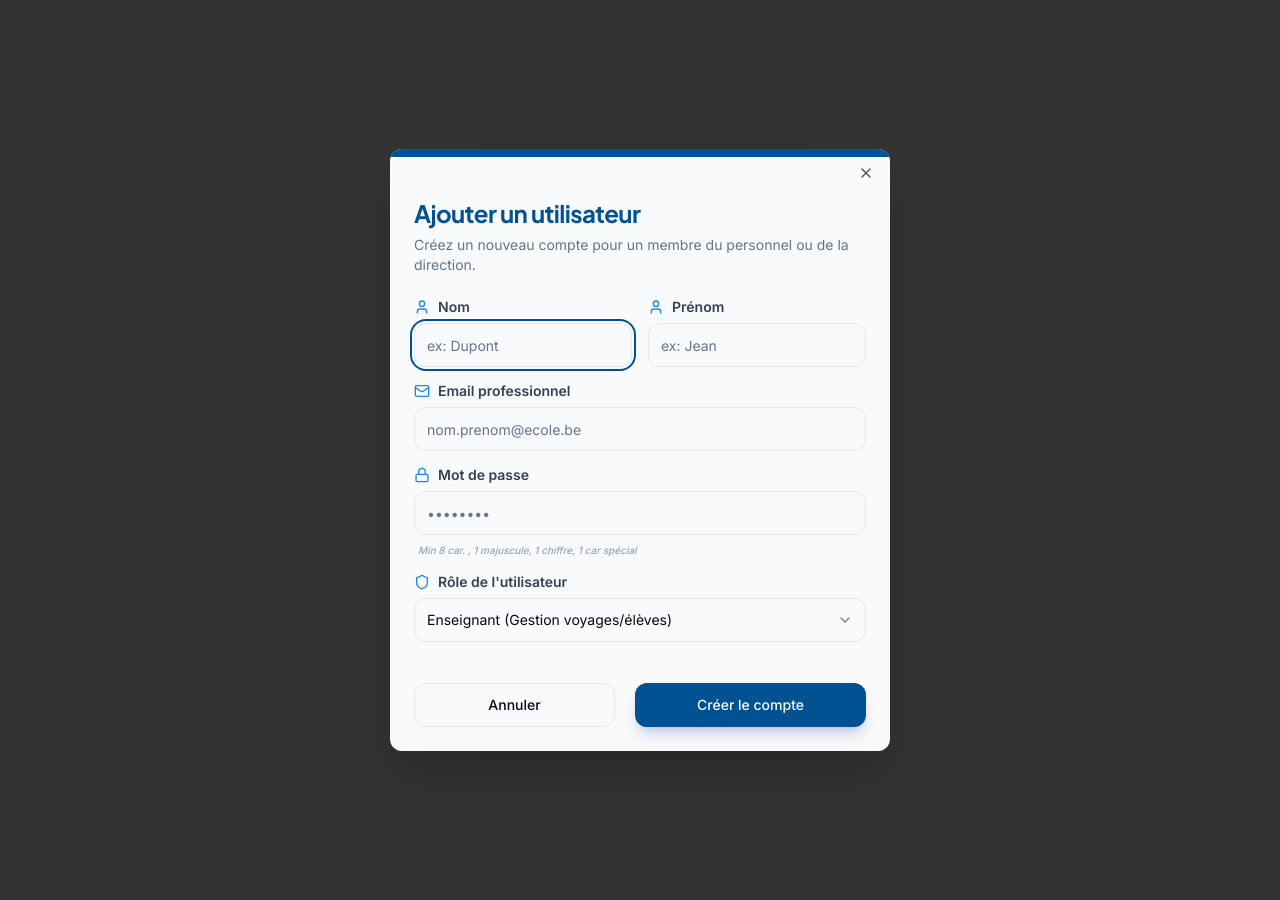
Test case: CreateUserDialog › shows server error on API failure
The image size is (1280, 900).
In the field with placeholder "ex: Dupont": (523,345) [414, 323, 632, 367], type "Dupont"
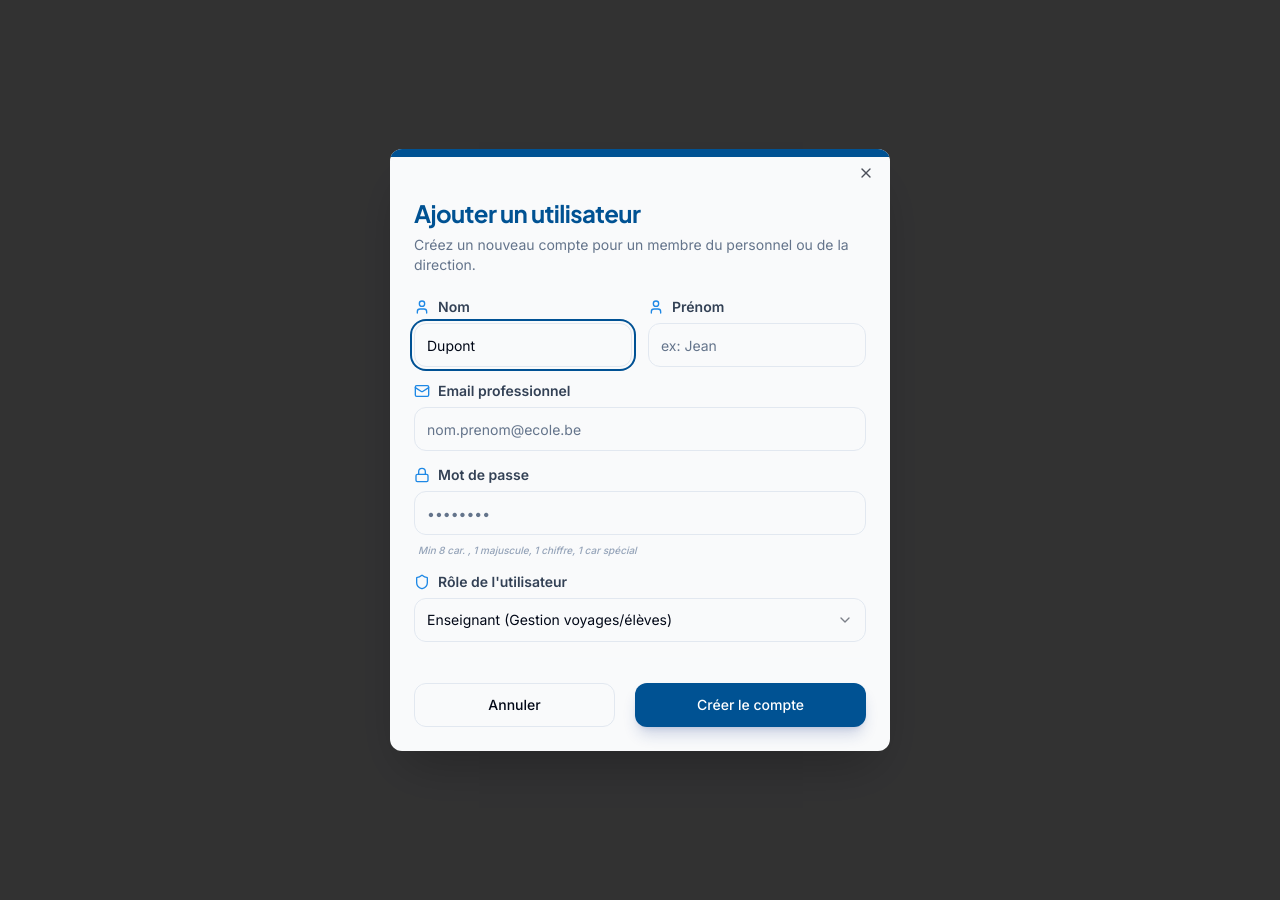
In the field with placeholder "ex: Jean": (757,345) [648, 323, 866, 367], type "Jean"
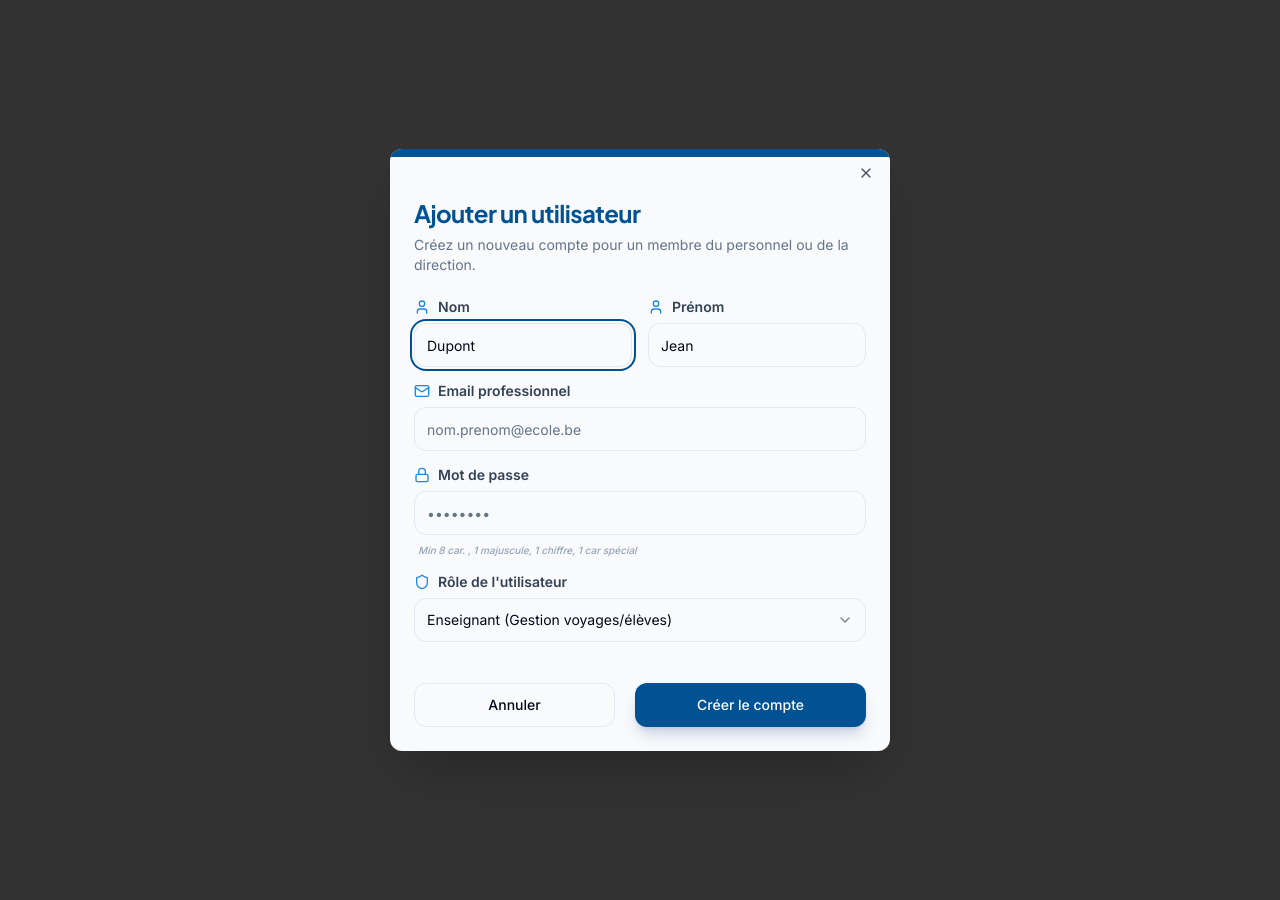
In the field labelled "Email professionnel": (640,429) [414, 407, 866, 451], type "jean.dupont@test.be"
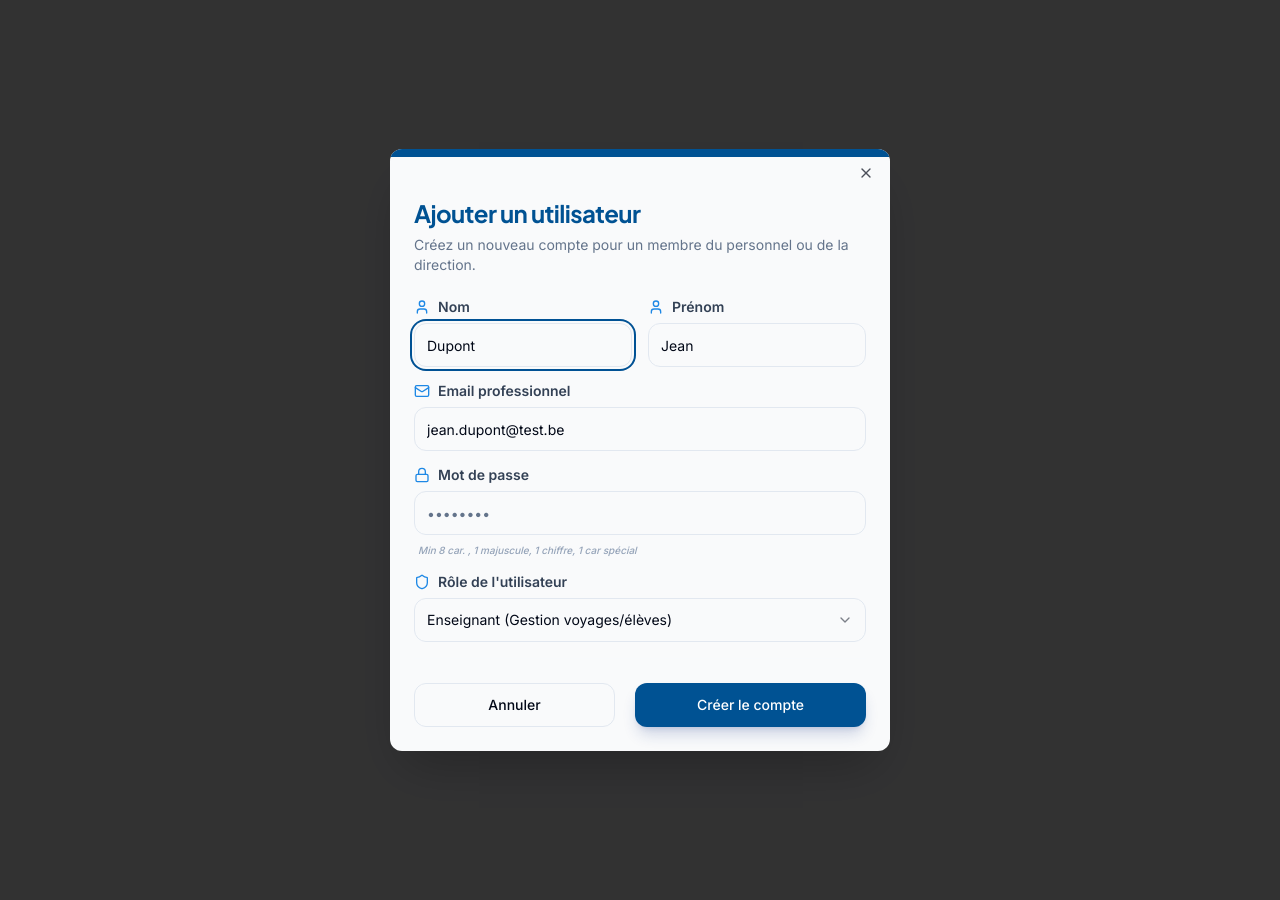
In the password field labelled "Mot de passe": (640,513) [414, 491, 866, 535], type "Password1!"
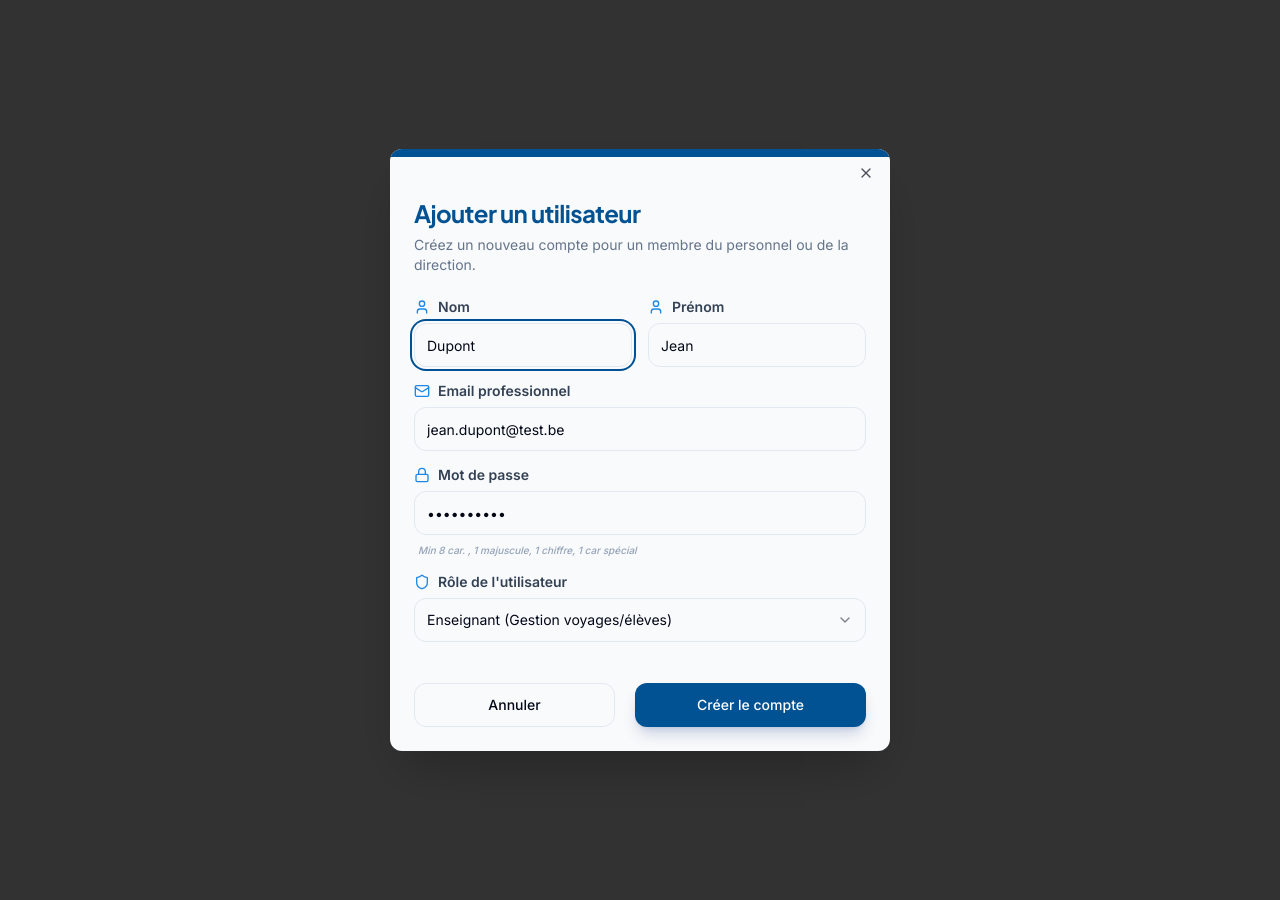
Click the button "Créer le compte": (750,705) [635, 683, 866, 727]
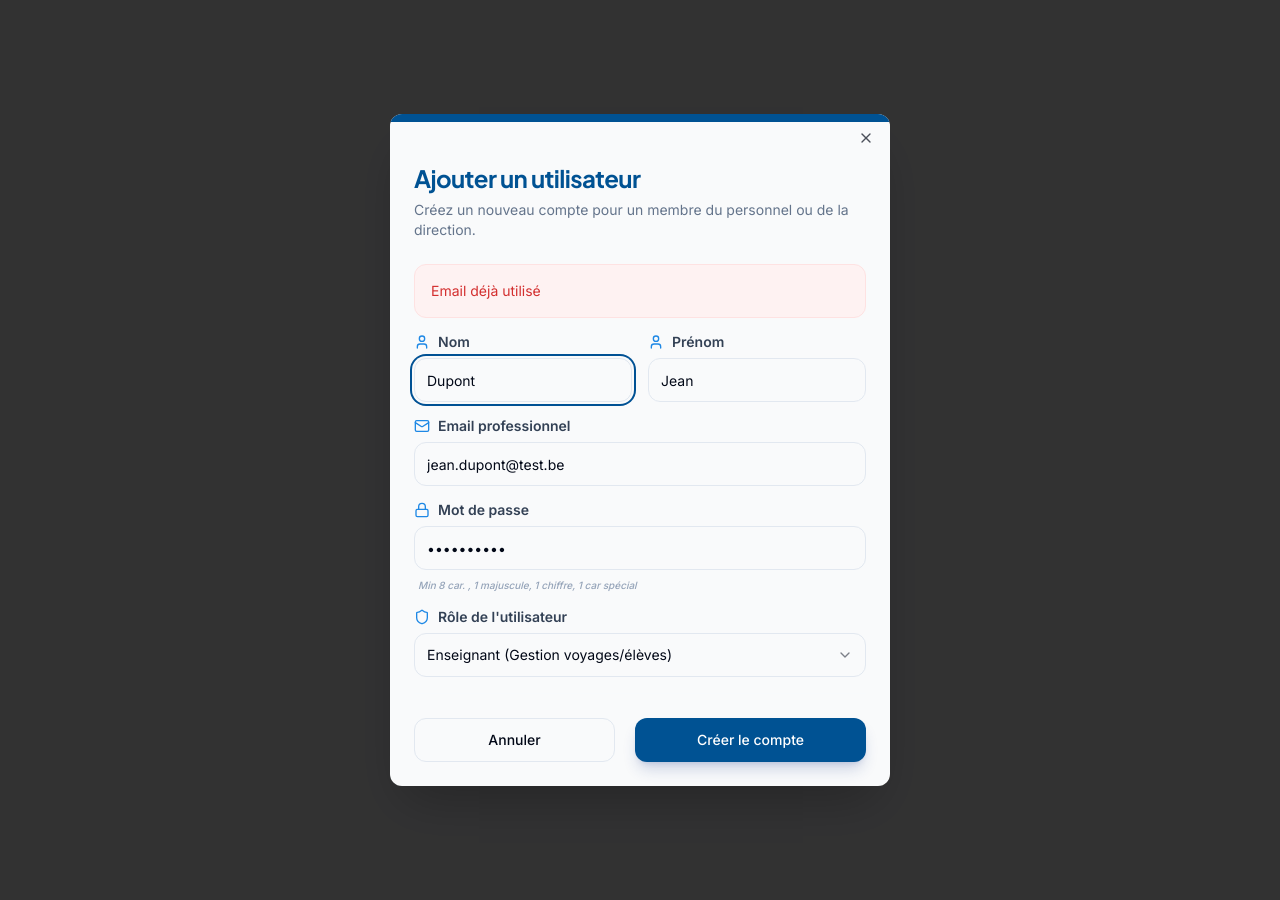
Check: the text "Email déjà utilisé" is shown, box [414, 264, 866, 318]
